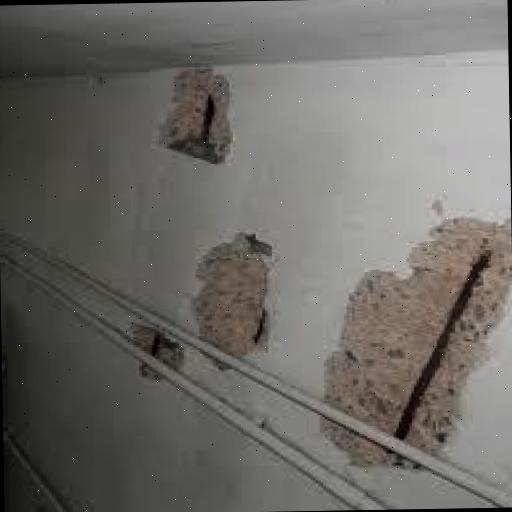spalling: (319, 217, 508, 473), (195, 232, 270, 372), (159, 65, 230, 160)
